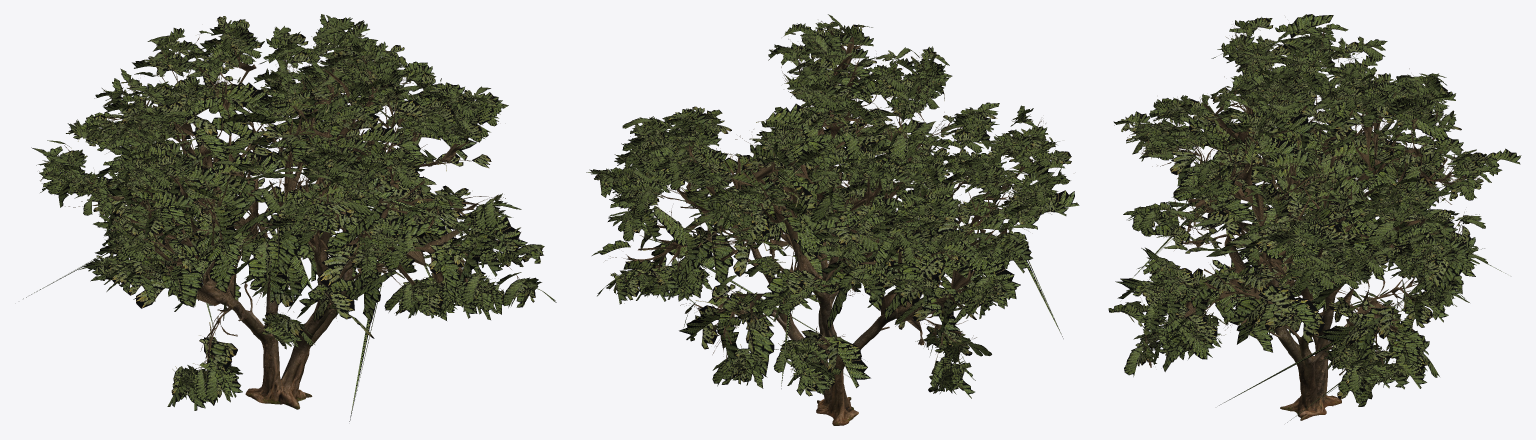
3 renders of one model, left to right at view 1: azimuth 30°, elevation 25°; view 2: azimuth 150°, elevation 25°; view 3: azimuth 270°, elevation 25°, orthographic. The views are drawn at different scales.
Visible parts, largest first — view 1: jacaranda_tree_LOD0, jacaranda_tree_LOD0.001, jacaranda_tree_LOD0.002; view 2: jacaranda_tree_LOD0, jacaranda_tree_LOD0.001, jacaranda_tree_LOD0.002; view 3: jacaranda_tree_LOD0, jacaranda_tree_LOD0.001, jacaranda_tree_LOD0.002.
Boxes of the visible parts, x1,y1,x2,y2 form: jacaranda_tree_LOD0: (23,14,556,421); jacaranda_tree_LOD0.001: (39,20,530,379); jacaranda_tree_LOD0.002: (220,205,360,409); jacaranda_tree_LOD0: (586,14,1079,398); jacaranda_tree_LOD0.001: (605,21,1061,371); jacaranda_tree_LOD0.002: (747,210,897,425); jacaranda_tree_LOD0: (1108,14,1521,422); jacaranda_tree_LOD0.001: (1127,23,1480,375); jacaranda_tree_LOD0.002: (1257,233,1372,420).
Size of the model in its own units: 25.48 by 19.7 by 20.4.
3 materials, 3 textured.
